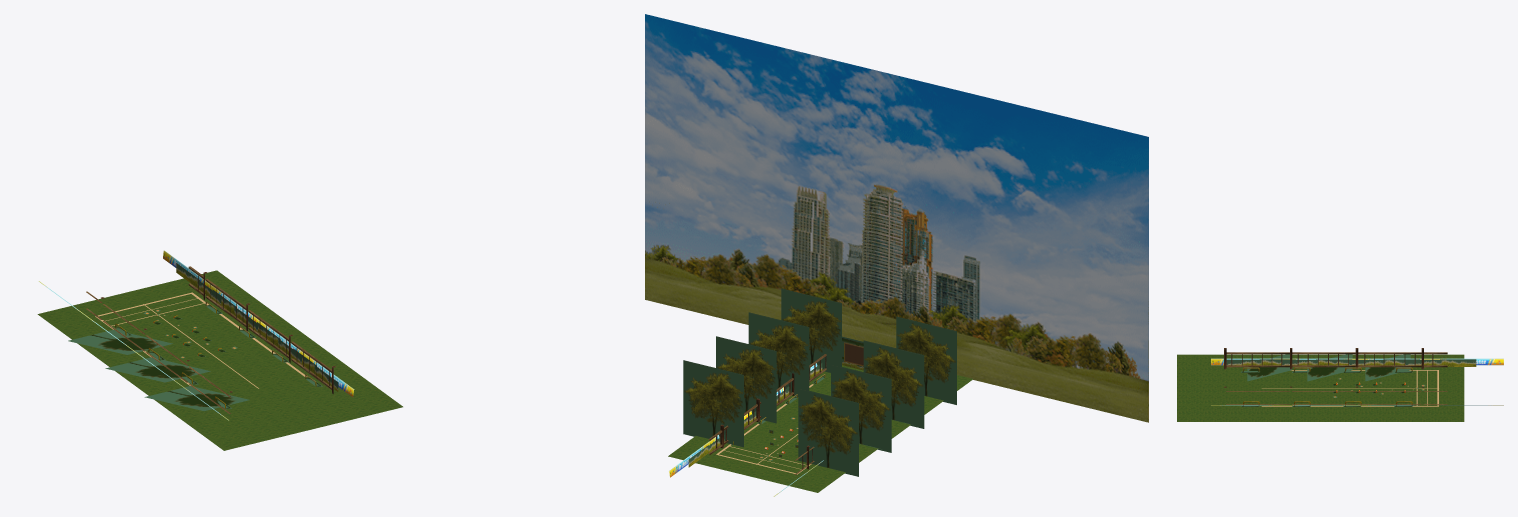
Rendered from EnvironmentD.glb.
3 views of the same model, side by side, from view 1: azimuth 30°, elevation 25°; view 2: azimuth 150°, elevation 25°; view 3: azimuth 270°, elevation 25° (orthographic). The views are drawn at different scales.
Visible parts, largest first — view 1: EnvironmentD_High; view 2: EnvironmentD_High; view 3: EnvironmentD_High.
Part boxes in pixels (bbox=[...]): EnvironmentD_High: bbox=[37, 250, 402, 450]; EnvironmentD_High: bbox=[645, 14, 1148, 496]; EnvironmentD_High: bbox=[1177, 348, 1503, 421].
Size of the model in its own units: 107 by 57.82 by 65.03.
Materials: 2 (2 with a texture image).
